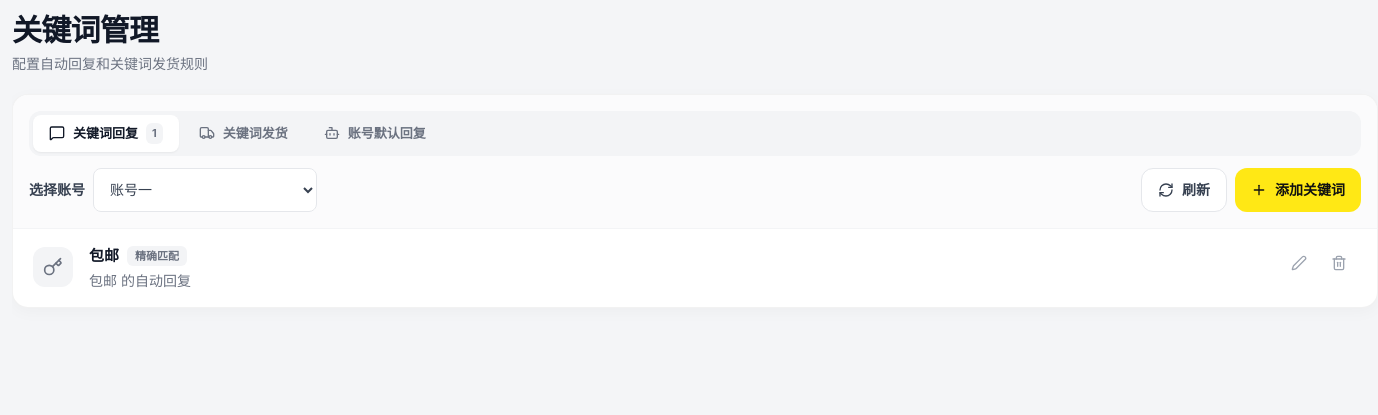
it: Keywords 读取失败的可见错误态与竞态防护 › 默认回复读取失败时提示错误而不是打开空表单
This screenshot has width=1378, height=415.
Expected: the heading "包邮" is shown, [89,244,119,267]
Click the button "账号默认回复": click(375, 133) [308,115,442,152]
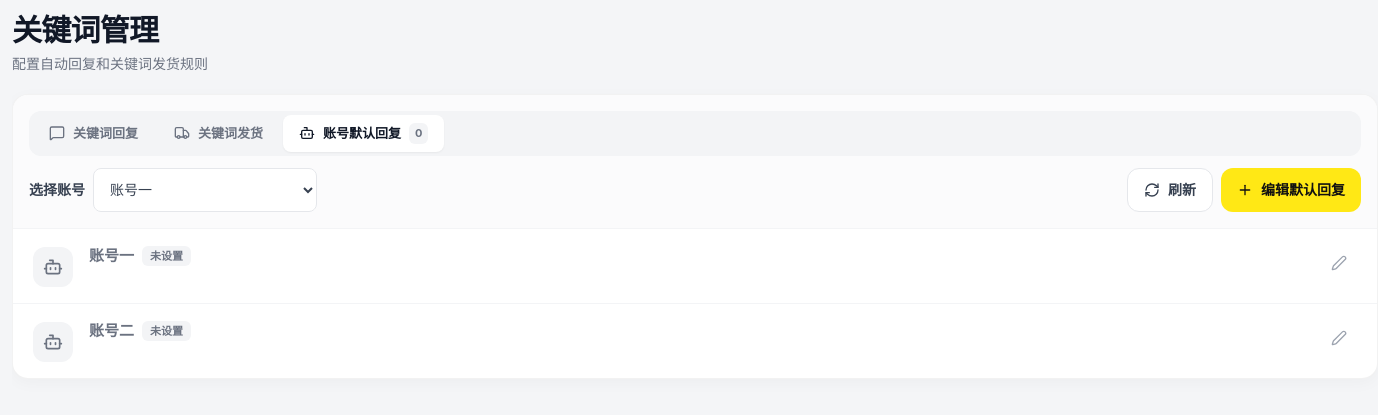
Click the button titled "编辑" in the row of "账号一": click(1339, 262) [1321,244,1357,280]
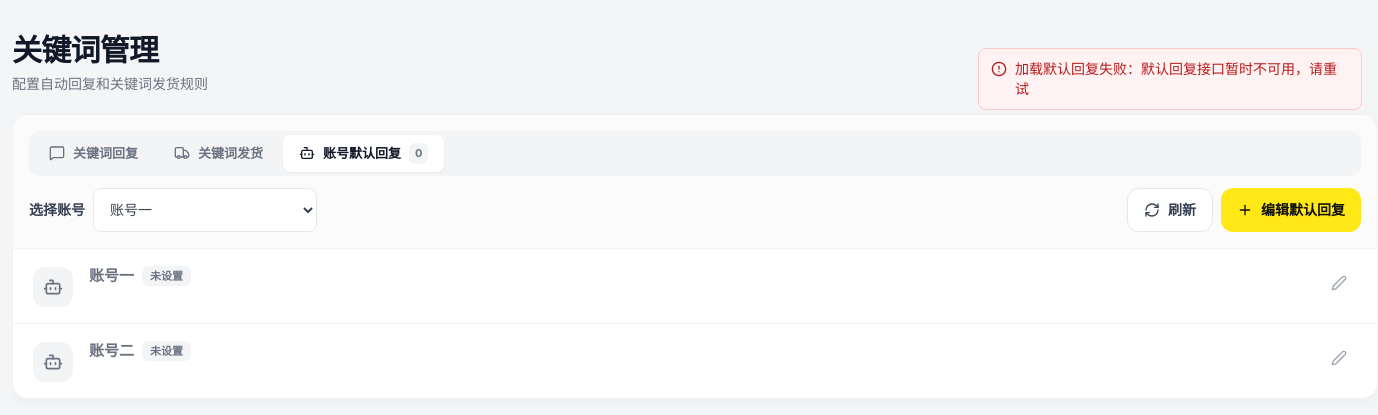
Now the text "加载默认回复失败：默认回复接口暂时不可用，请重试" is shown, box [978,48,1362,110]
